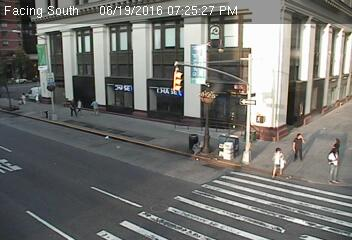neg: (119, 83, 137, 108), (153, 99, 171, 122), (15, 58, 30, 78), (117, 56, 127, 69)
pos: (321, 148, 348, 183), (267, 146, 292, 179), (287, 131, 310, 161), (17, 91, 29, 107), (330, 137, 342, 152), (89, 100, 100, 115), (73, 98, 84, 112)
